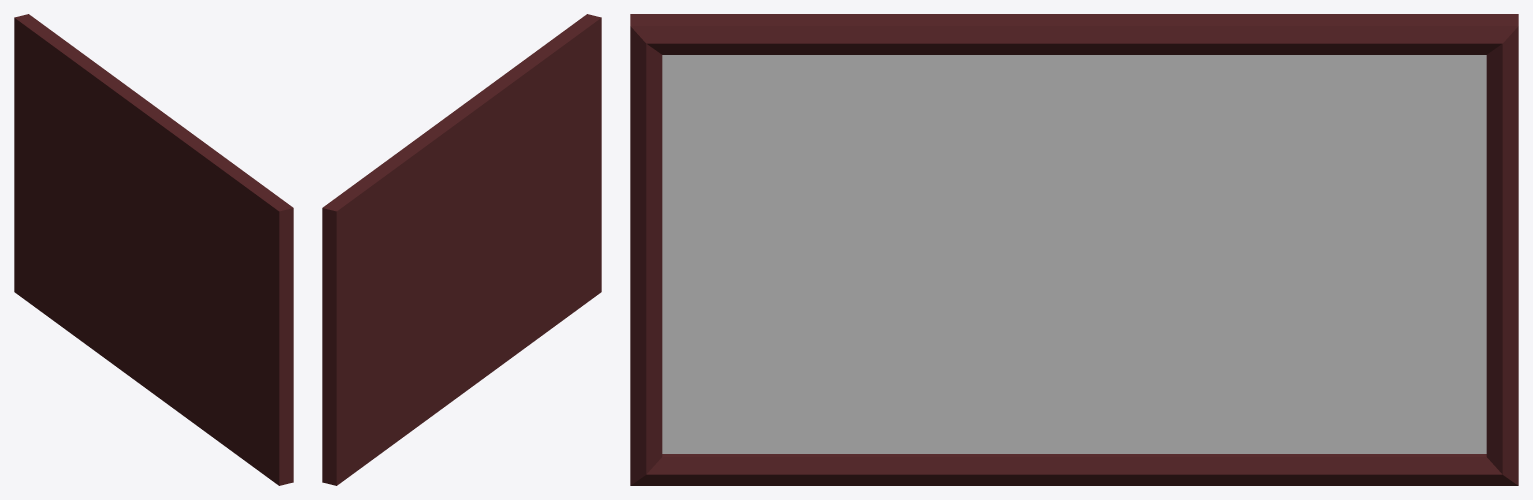
Rendered from PhotoFrame.fbx.
3 views of the same model, side by side, from view 1: azimuth 30°, elevation 25°; view 2: azimuth 150°, elevation 25°; view 3: azimuth 270°, elevation 25° (orthographic). The views are drawn at different scales.
Visible parts, largest first — view 1: PictureFrame; view 2: PictureFrame; view 3: PictureFrame.
Boxes of the visible parts, box(x1,y1,x2,y2) form: PictureFrame: box(14, 14, 293, 485); PictureFrame: box(322, 14, 601, 485); PictureFrame: box(630, 14, 1518, 485).
Size of the model in its own units: 695 by 397 by 28.03.
